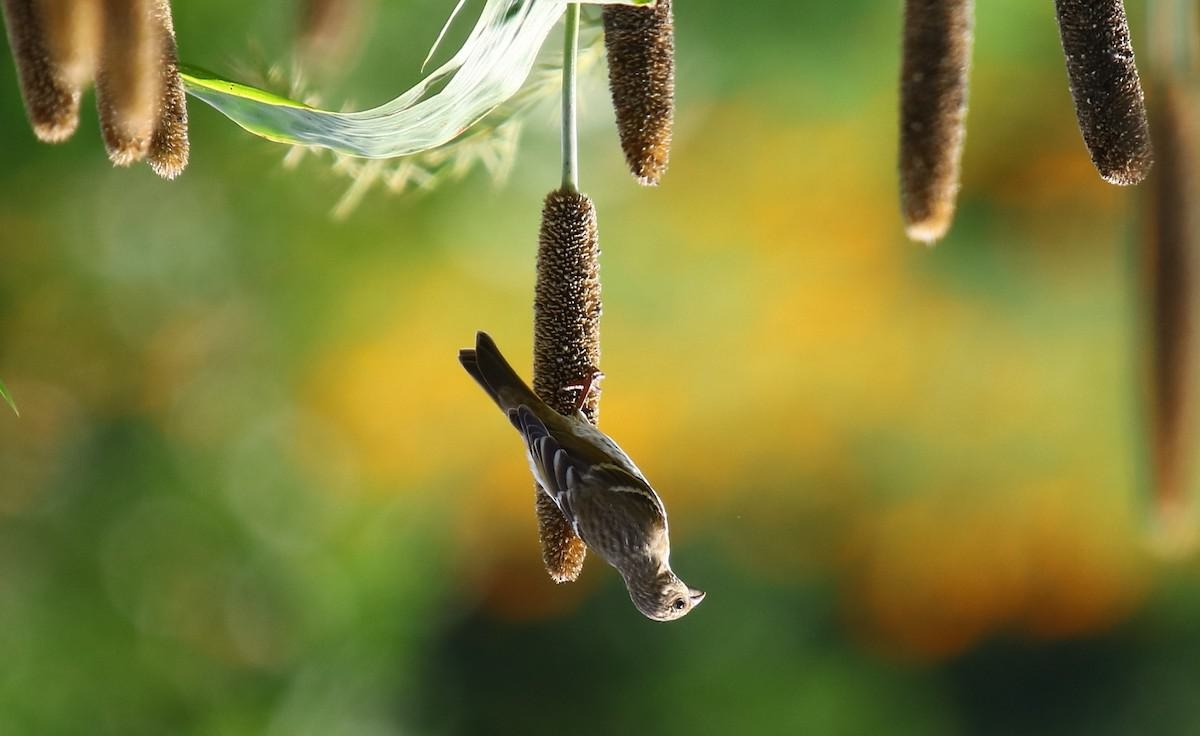rosefinch: (500, 383, 718, 630)
